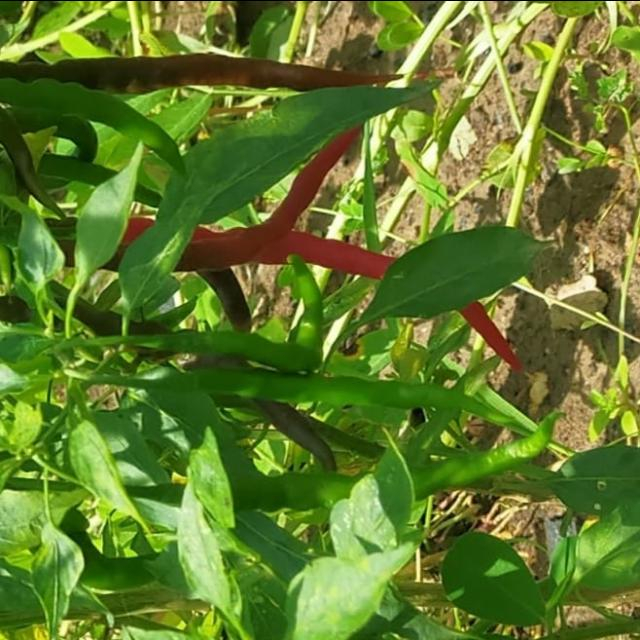sehat: (164, 68, 436, 230), (356, 218, 550, 338), (434, 524, 566, 638), (72, 134, 152, 292)
